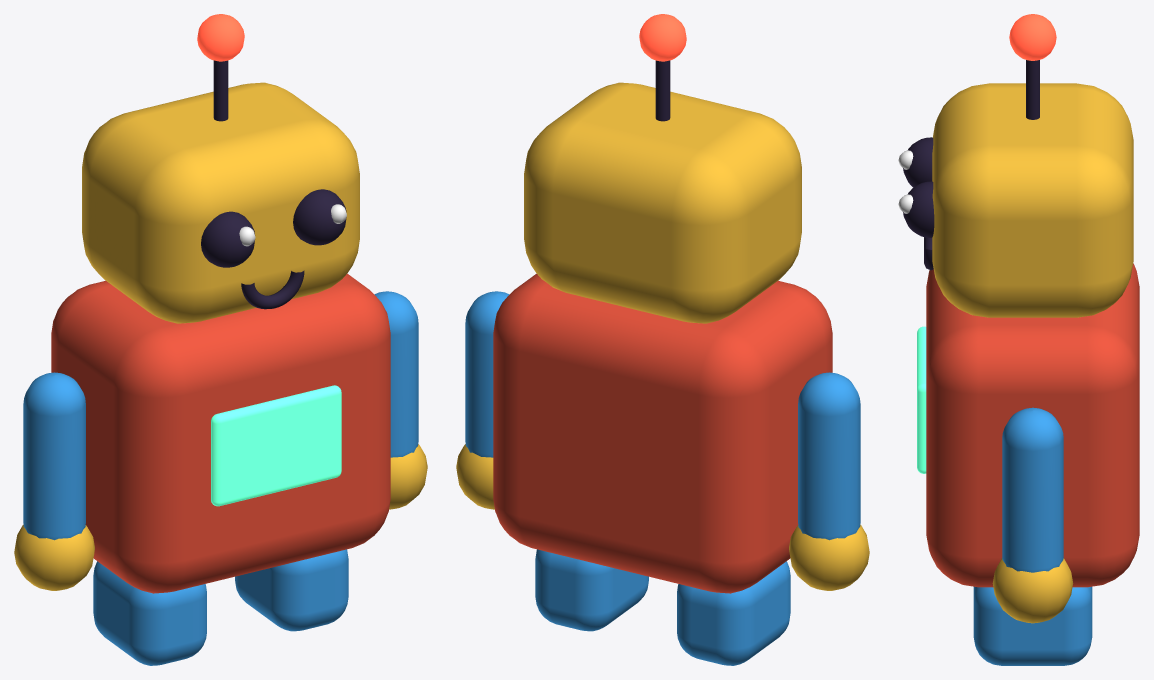
File: jim.glb
3 views of the same model, side by side, from view 1: azimuth 30°, elevation 25°; view 2: azimuth 150°, elevation 25°; view 3: azimuth 270°, elevation 25° (orthographic).
Visible parts, largest first — view 1: body, pop, JIM, armL, glow, armR, eyeL, eyeR; view 2: body, pop, JIM, armL, armR; view 3: body, pop, armR, JIM, eyeR, glow, eyeL.
Part boxes in pixels (<box>): body: <box>51,273,390,593</box>; pop: <box>82,14,359,323</box>; JIM: <box>93,549,348,665</box>; armL: <box>14,372,94,590</box>; glow: <box>211,385,341,506</box>; armR: <box>374,291,427,509</box>; eyeL: <box>201,211,255,267</box>; eyeR: <box>293,189,346,245</box>; body: <box>493,273,832,593</box>; pop: <box>524,14,801,323</box>; JIM: <box>535,549,790,665</box>; armL: <box>789,372,869,590</box>; armR: <box>456,291,509,509</box>; body: <box>926,263,1139,587</box>; pop: <box>924,14,1133,317</box>; armR: <box>992,407,1073,623</box>; JIM: <box>973,586,1092,665</box>; eyeR: <box>898,181,934,237</box>; glow: <box>917,326,926,473</box>; eyeL: <box>898,137,933,187</box>.
Size of the model in its own units: 1.94 by 2.83 by 1.02.
